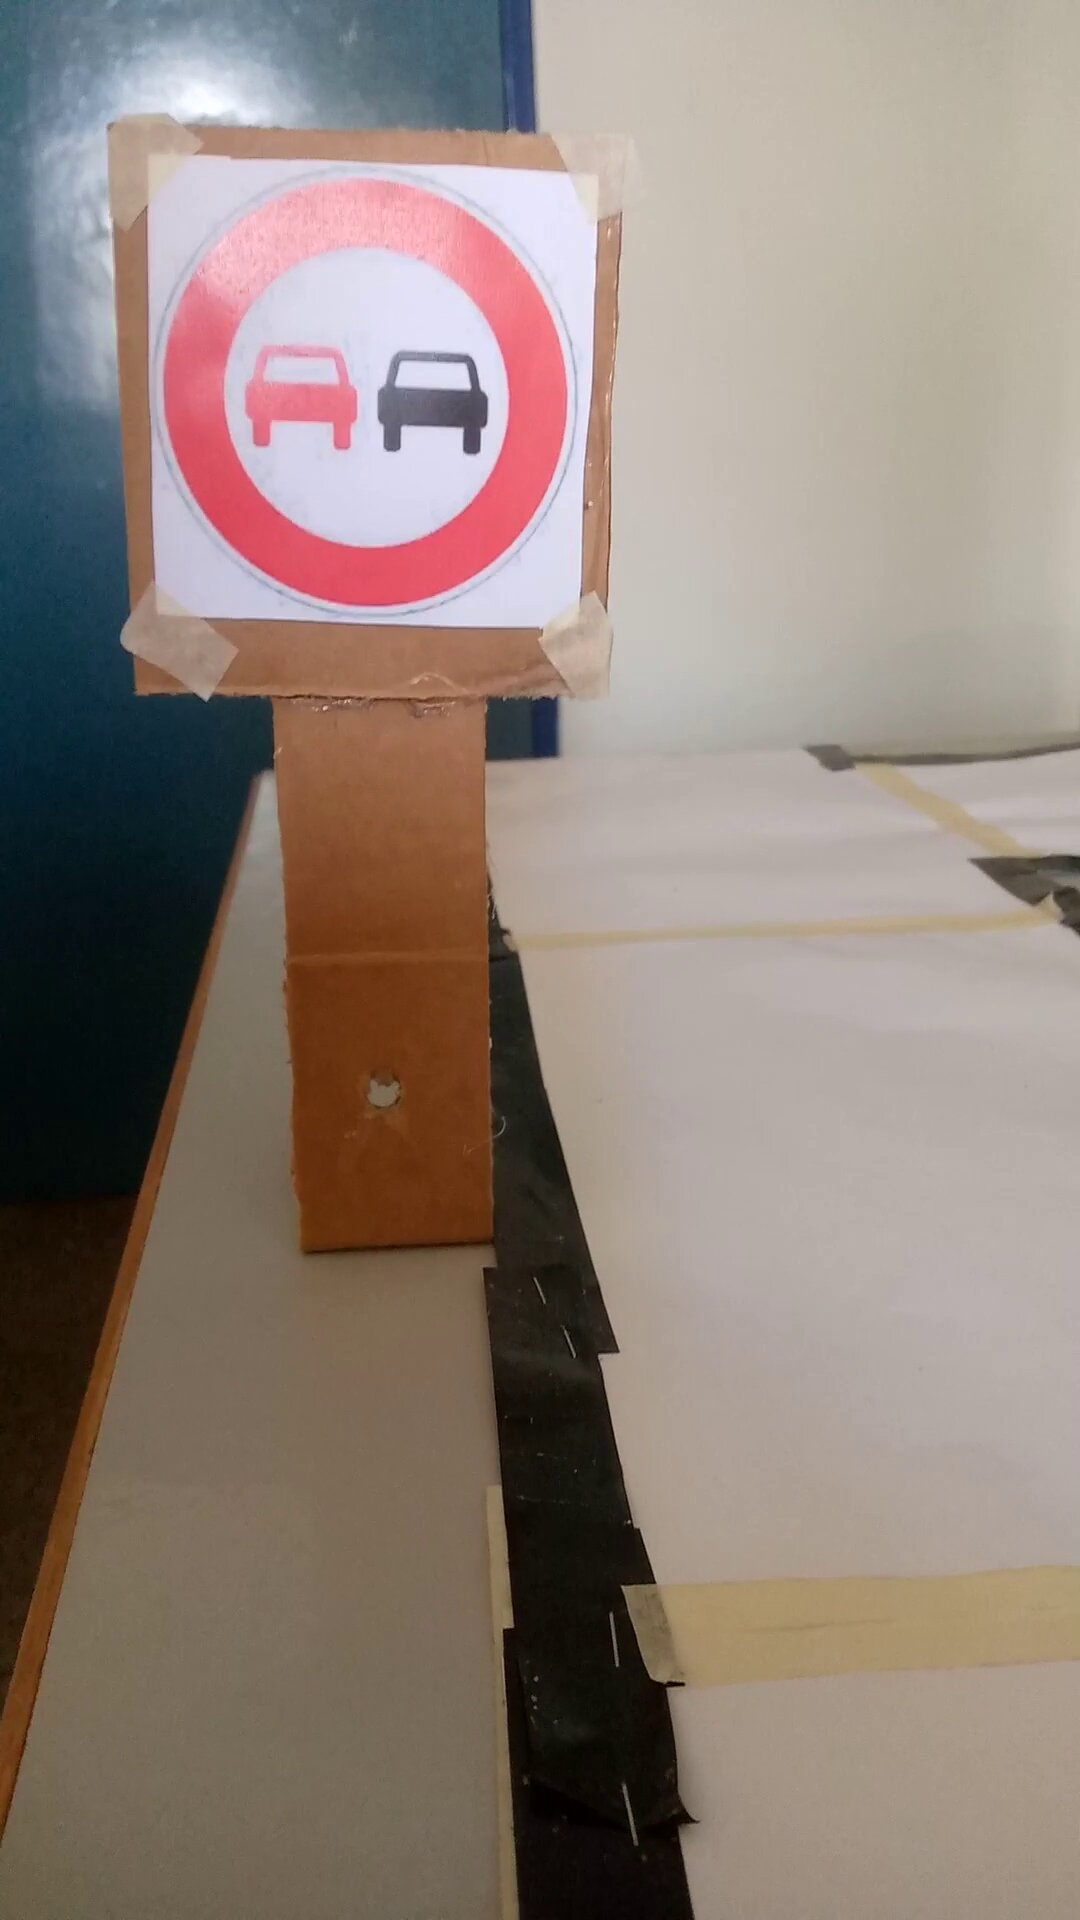panel100: (144, 146, 587, 640)
